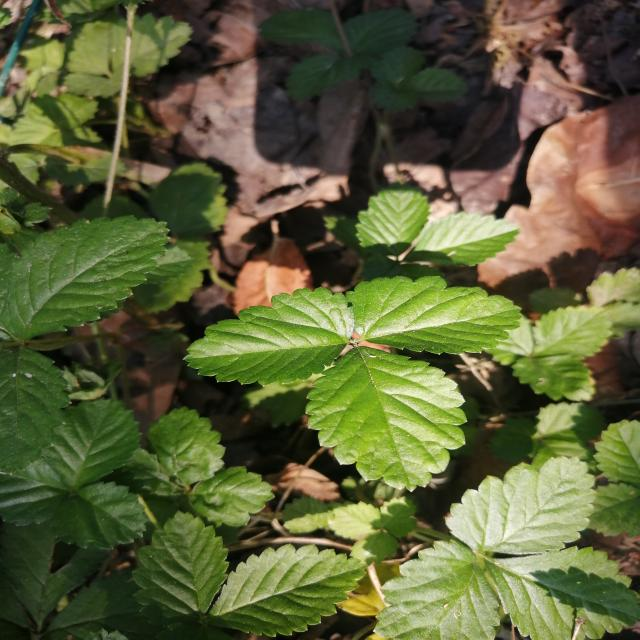Mock_strawberry: (162, 274, 510, 483)
